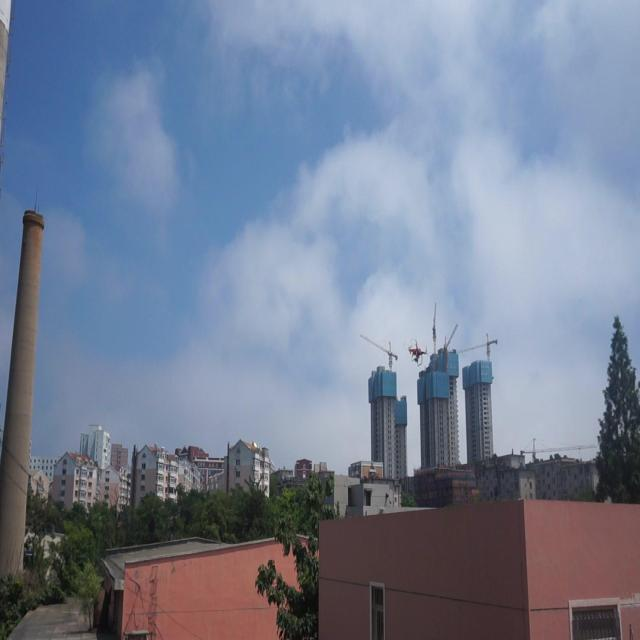drone: (406, 336, 429, 368)
